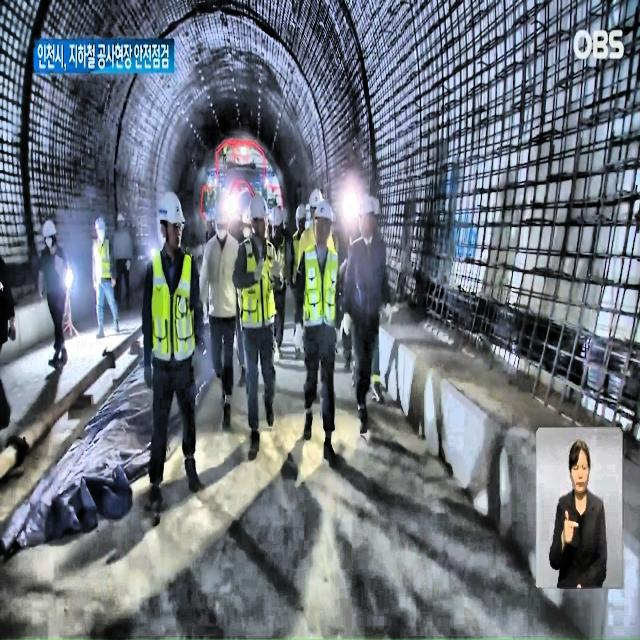safety_helmet: (158, 193, 187, 231), (306, 192, 338, 224), (244, 200, 273, 232), (353, 193, 385, 220), (216, 209, 238, 237), (298, 196, 314, 220), (93, 217, 104, 232), (44, 220, 54, 236)
safety_jacket: (147, 245, 204, 372), (236, 233, 286, 331), (300, 239, 348, 337), (88, 236, 117, 290)
